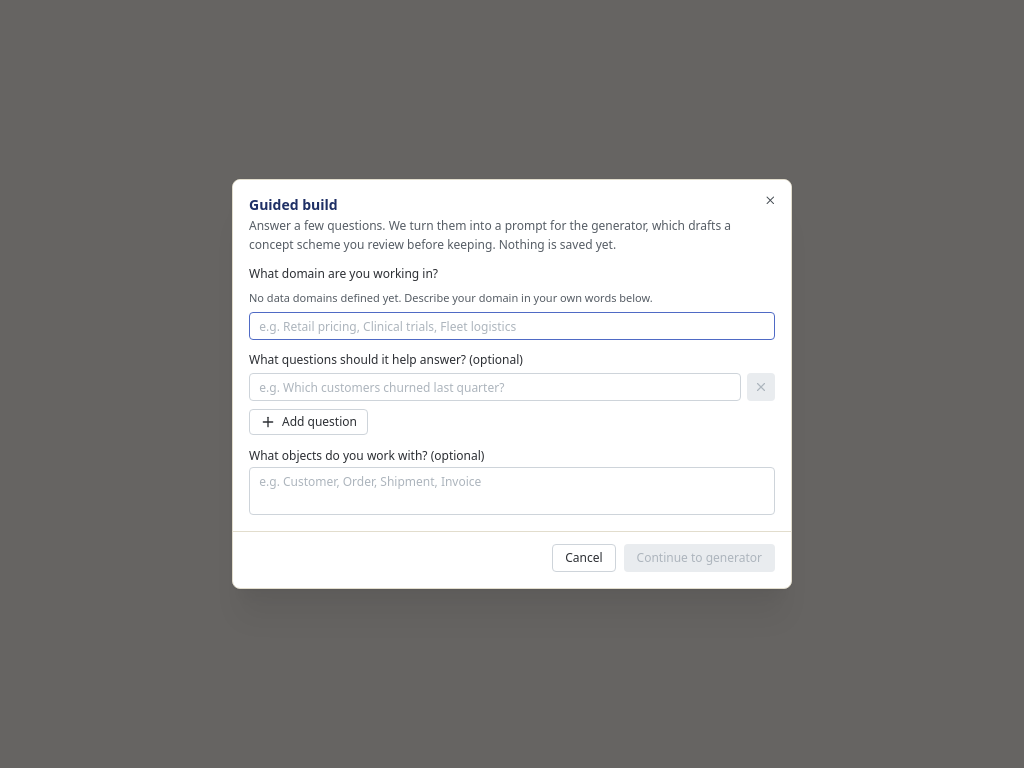
Test: GuidedGenerateDialog › shows a hint and keeps free text usable when no domains exist
Expected: the text with test id "guided-domains-empty" is shown, [249,290,653,305]
Type "Clinical trials" into the field labelled "What domain are you working in?" at (512, 326), box [249,312,775,340]
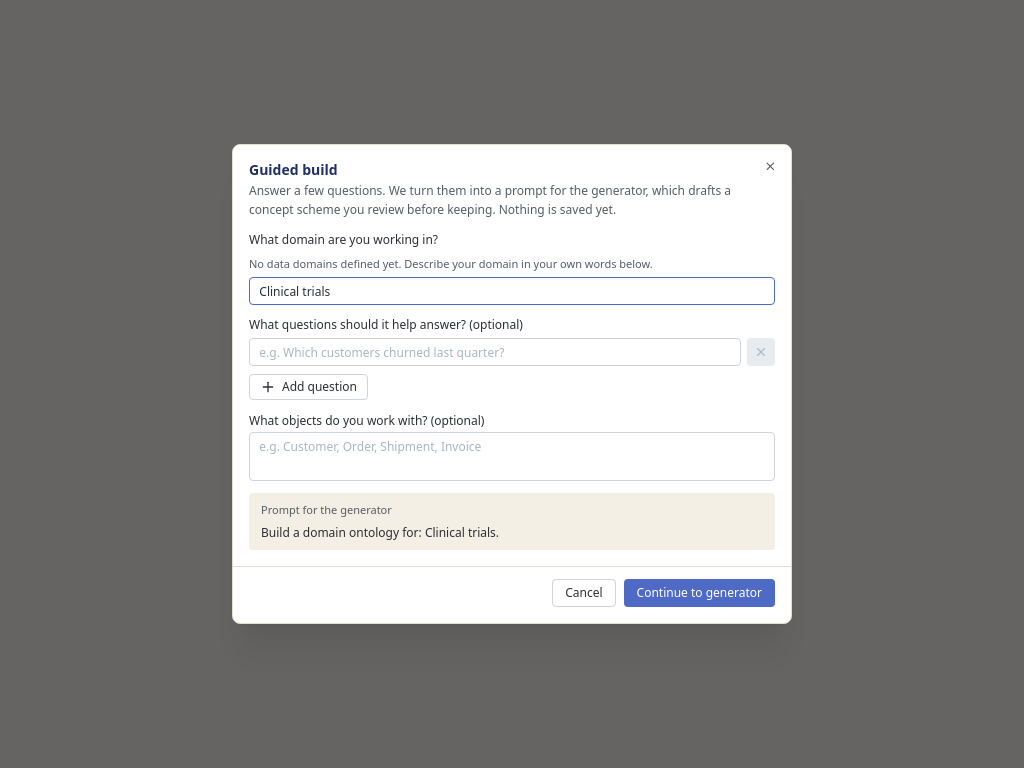
Result: the text with test id "guided-prompt-preview" reads "Build a domain ontology for: Clinical trials." at [261,524,499,541]
